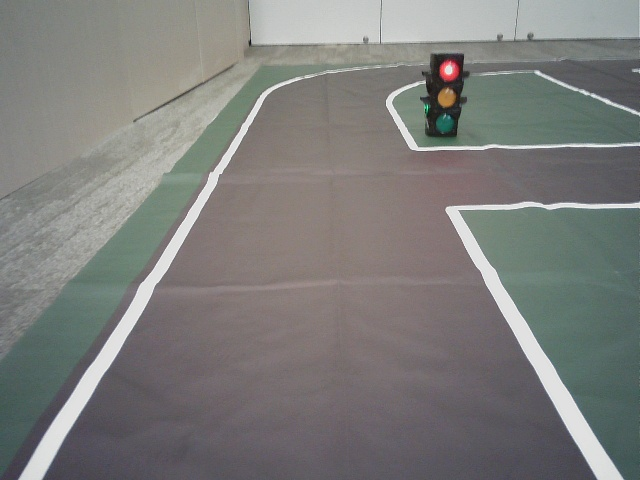red: (434, 55, 456, 136)
